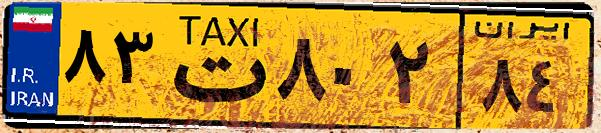0: (330, 28, 385, 110)
2: (385, 28, 445, 110)
3: (110, 28, 158, 98)
4: (525, 38, 570, 115)
8: (270, 28, 330, 110), (57, 26, 110, 100), (475, 38, 525, 113)
ت: (158, 12, 270, 120)
